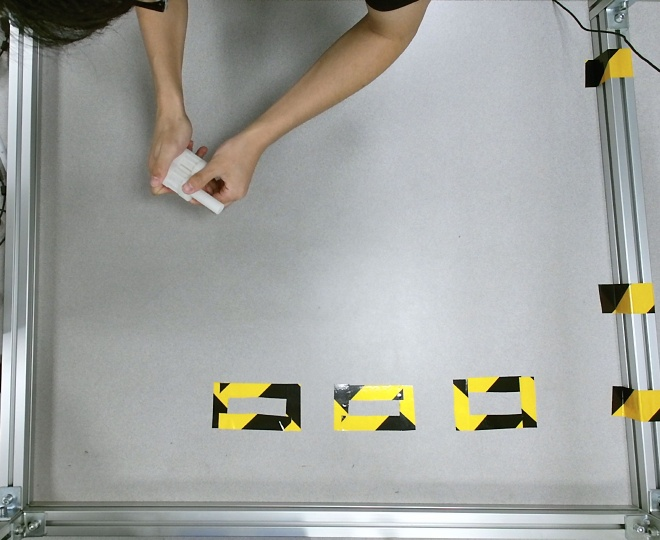stage_4: (160, 147, 226, 215)
